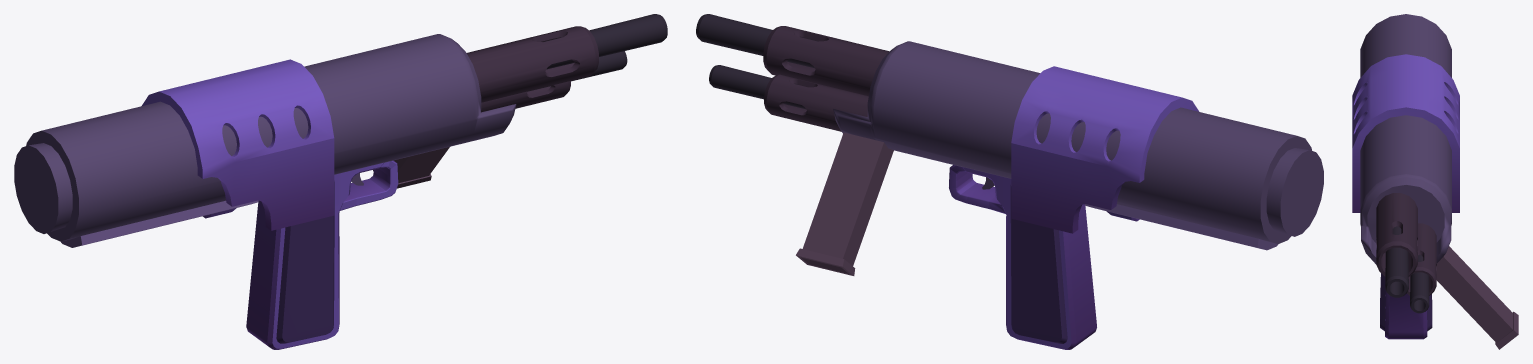
The model's file is Weapon14.fbx.
The picture shows the model from 3 angles, left to right: view 1: azimuth 30°, elevation 25°; view 2: azimuth 150°, elevation 25°; view 3: azimuth 270°, elevation 25°; orthographic projection. The views are drawn at different scales.
Visible parts, largest first — view 1: Weapon14; view 2: Weapon14; view 3: Weapon14.
Part boxes in pixels (x1,y1,x2,y2): Weapon14: (14, 14, 667, 349); Weapon14: (696, 14, 1323, 349); Weapon14: (1352, 14, 1518, 349).
Bounding box in the file's own units: 126 × 52.78 × 35.49.
